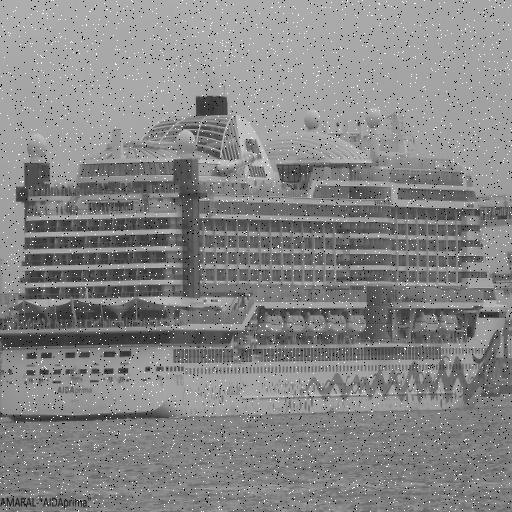cruises: (5, 70, 506, 421)
